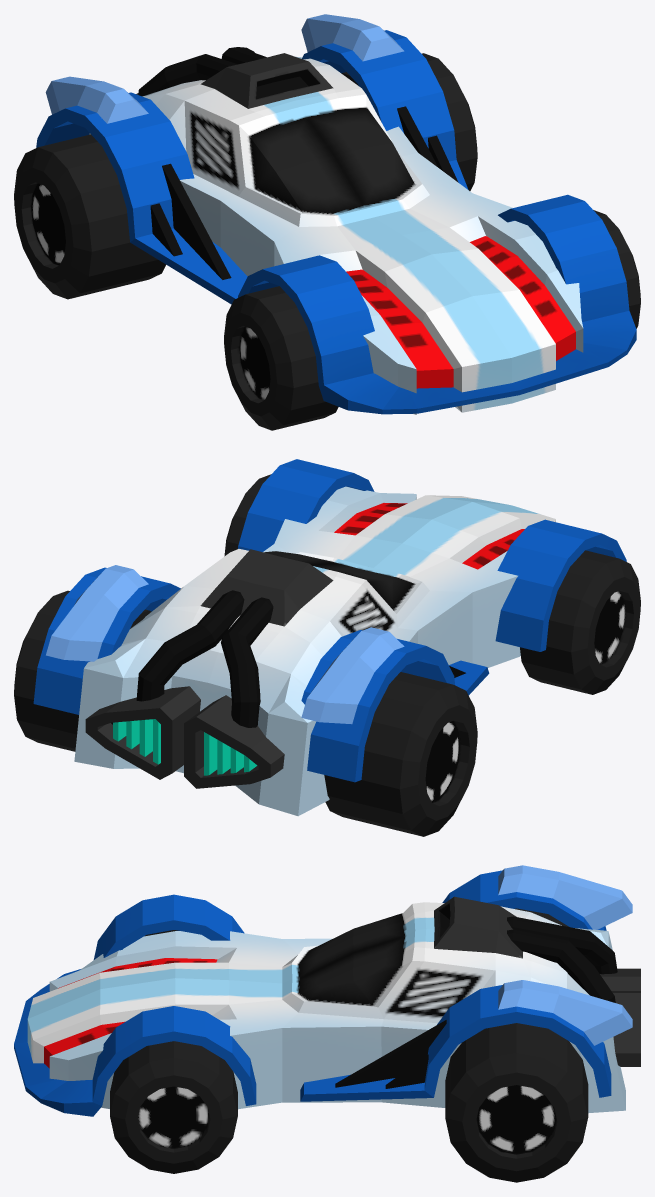
Rendered from Car-8.fbx.
The picture shows the model from 3 angles, top to bottom: view 1: azimuth 30°, elevation 25°; view 2: azimuth 150°, elevation 25°; view 3: azimuth 270°, elevation 25°; orthographic projection. The views are drawn at different scales.
Parts seen in each view (by area): view 1: Cube.212, Cylinder.243, Cylinder.244, Cylinder.241, Cylinder.242, Cube.209, Plane.043; view 2: Cube.212, Cylinder.243, Cylinder.241, Cylinder.244, Cylinder.242, Cube.210, Plane.043, Cube.211; view 3: Cube.212, Cylinder.243, Cylinder.241, Cylinder.244, Cylinder.242, Plane.043, Cube.209, Cube.210.
Boxes of the visible parts, left/top/right/bottom form: Cube.212: left=89, top=53, right=583, bottom=414; Cylinder.243: left=36, top=14, right=468, bottom=304; Cylinder.244: left=238, top=194, right=636, bottom=414; Cylinder.241: left=14, top=53, right=477, bottom=299; Cylinder.242: left=224, top=210, right=640, bottom=430; Cube.209: left=150, top=106, right=458, bottom=279; Plane.043: left=138, top=47, right=266, bottom=96; Cube.212: left=74, top=486, right=555, bottom=816; Cylinder.243: left=33, top=565, right=489, bottom=782; Cylinder.241: left=14, top=590, right=477, bottom=836; Cylinder.244: left=238, top=459, right=626, bottom=651; Cylinder.242: left=224, top=474, right=640, bottom=694; Cube.210: left=85, top=686, right=284, bottom=788; Plane.043: left=136, top=590, right=273, bottom=727; Cube.211: left=113, top=719, right=257, bottom=775; Cube.212: left=27, top=896, right=625, bottom=1113; Cylinder.243: left=300, top=865, right=632, bottom=1101; Cylinder.241: left=445, top=908, right=588, bottom=1182; Cylinder.244: left=14, top=894, right=256, bottom=1116; Cylinder.242: left=110, top=930, right=237, bottom=1173; Plane.043: left=507, top=916, right=617, bottom=1002; Cube.209: left=335, top=1020, right=446, bottom=1088; Cube.210: left=600, top=968, right=640, bottom=1066.
Size of the model in its own units: 306 by 147 by 448.
